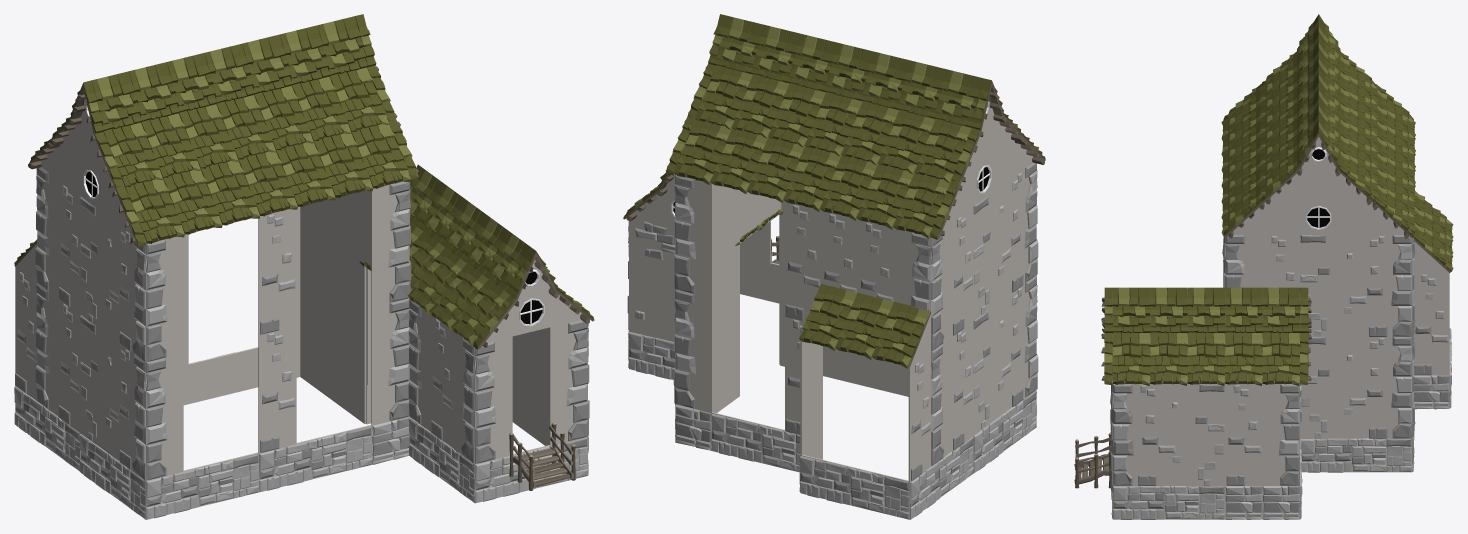
The model's file is HOUSE_1_PARTS.fbx.
3 views of the same model, side by side, from view 1: azimuth 30°, elevation 25°; view 2: azimuth 150°, elevation 25°; view 3: azimuth 270°, elevation 25° (orthographic). The views are drawn at different scales.
Parts seen in each view (by area): view 1: WALL_08_4, WALL_08_2, WALL_08_3, WALL_07_5, WALL_06_4, WALL_06_7, FOUNDATION_03_4, FOUNDATION_03_5, WALL_07_3, WALL_07_2, WALL_05_4, WALL_05_7 (+60 smaller); view 2: WALL_08_3, WALL_08_2, WALL_01_3, WALL_05_8, WALL_05_9, FOUNDATION_03_8, WALL_06_11, FOUNDATION_03_9, WALL_08_4, WALL_07_6, WALL_06_13, WALL_06_14 (+52 smaller); view 3: WALL_04_2, WALL_08_5, WALL_08_4, FOUNDATION_03_12, FOUNDATION_03_10, WALL_07_7, WALL_06_2, WALL_06_9, WALL_06_12, WALL_05_10, ROOF_BASE_32, ROOF_BASE_30 (+60 smaller).
Part boxes in pixels (x1,y1,x2,y2): WALL_08_4: [300, 219, 366, 384]; WALL_08_2: [80, 315, 146, 480]; WALL_08_3: [80, 196, 146, 361]; WALL_07_5: [371, 181, 410, 306]; WALL_06_4: [258, 325, 296, 452]; WALL_06_7: [258, 209, 296, 334]; FOUNDATION_03_4: [146, 452, 258, 519]; FOUNDATION_03_5: [259, 425, 371, 492]; WALL_07_3: [371, 298, 409, 425]; WALL_07_2: [549, 320, 588, 445]; WALL_05_4: [146, 353, 183, 480]; WALL_05_7: [146, 236, 183, 361]; WALL_08_3: [973, 162, 1038, 320]; WALL_08_2: [973, 275, 1038, 434]; WALL_01_3: [629, 218, 675, 341]; WALL_05_8: [674, 289, 712, 412]; WALL_05_9: [674, 174, 712, 297]; FOUNDATION_03_8: [800, 455, 909, 519]; WALL_06_11: [785, 201, 821, 320]; FOUNDATION_03_9: [711, 412, 800, 472]; WALL_08_4: [673, 244, 739, 403]; WALL_07_6: [894, 228, 931, 350]; WALL_06_13: [821, 210, 857, 293]; WALL_06_14: [858, 219, 894, 302]; WALL_04_2: [1113, 384, 1225, 485]; WALL_08_5: [1300, 234, 1412, 336]; WALL_08_4: [1300, 336, 1412, 438]; FOUNDATION_03_12: [1113, 485, 1225, 519]; FOUNDATION_03_10: [1300, 438, 1412, 472]; WALL_07_7: [1262, 384, 1299, 485]; WALL_06_2: [1225, 384, 1262, 485]; WALL_06_9: [1414, 273, 1449, 375]; WALL_06_12: [1262, 234, 1299, 287]; WALL_05_10: [1225, 234, 1262, 287]; ROOF_BASE_32: [1187, 332, 1225, 385]; ROOF_BASE_30: [1262, 332, 1300, 385].
Bounding box in the file's own units: 1041 × 1014 × 1013.
